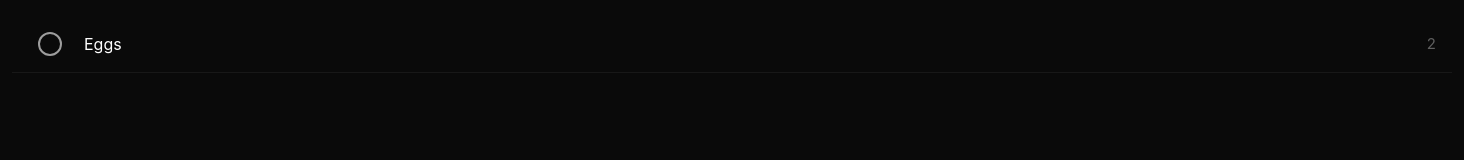
it: GroceryIngredientView › swipe left on row reveals delete button
Step 1. Press the mouse on the list item "Eggs" → (732, 44), box [12,16,1452,73]
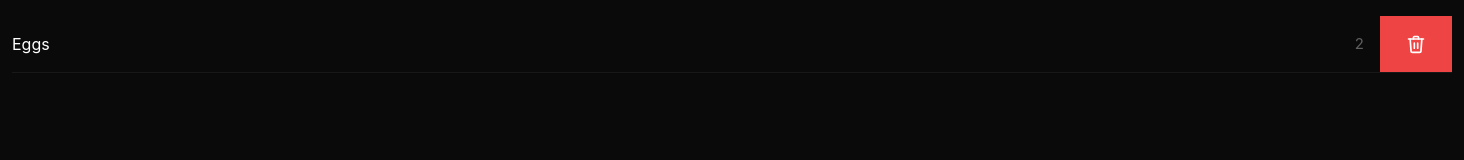
Now the button named "Delete Eggs" is shown, box [1380,16,1452,72]
